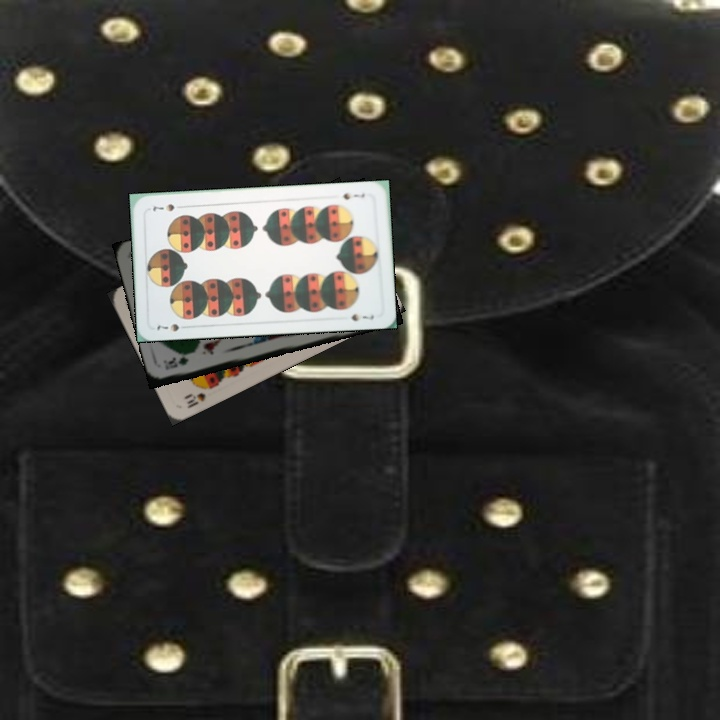GK: (160, 354, 191, 372)
S10: (180, 381, 215, 411)
S7: (153, 319, 182, 334), (339, 189, 367, 202)
